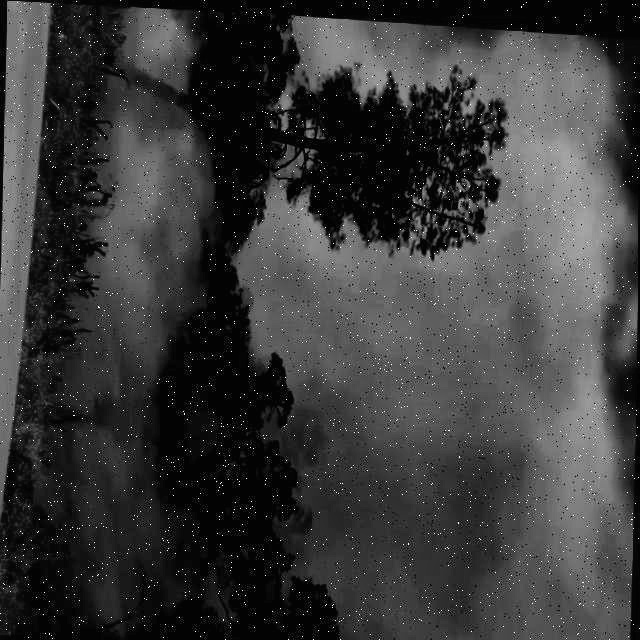Smoke: (328, 207, 639, 640), (48, 2, 222, 640)
